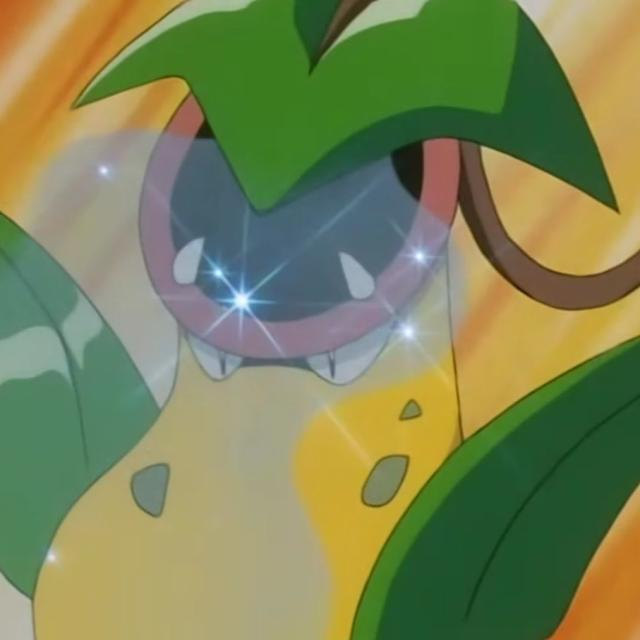Victreebel: (23, 106, 476, 640)
